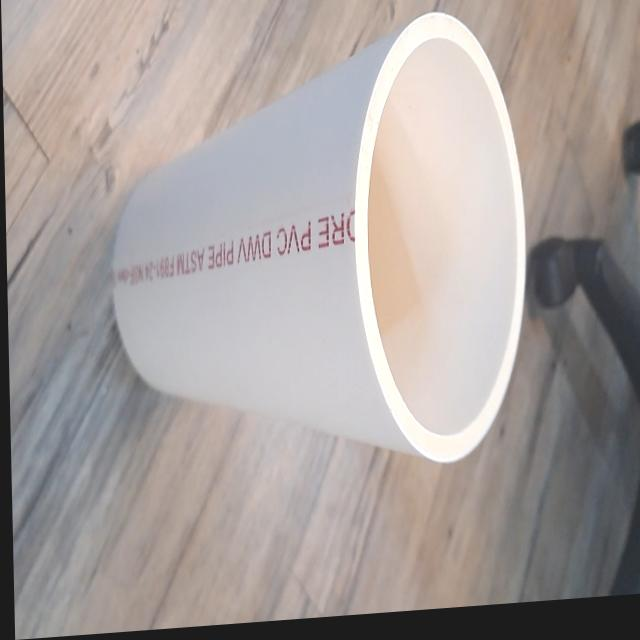CORAL: (101, 0, 537, 483)
